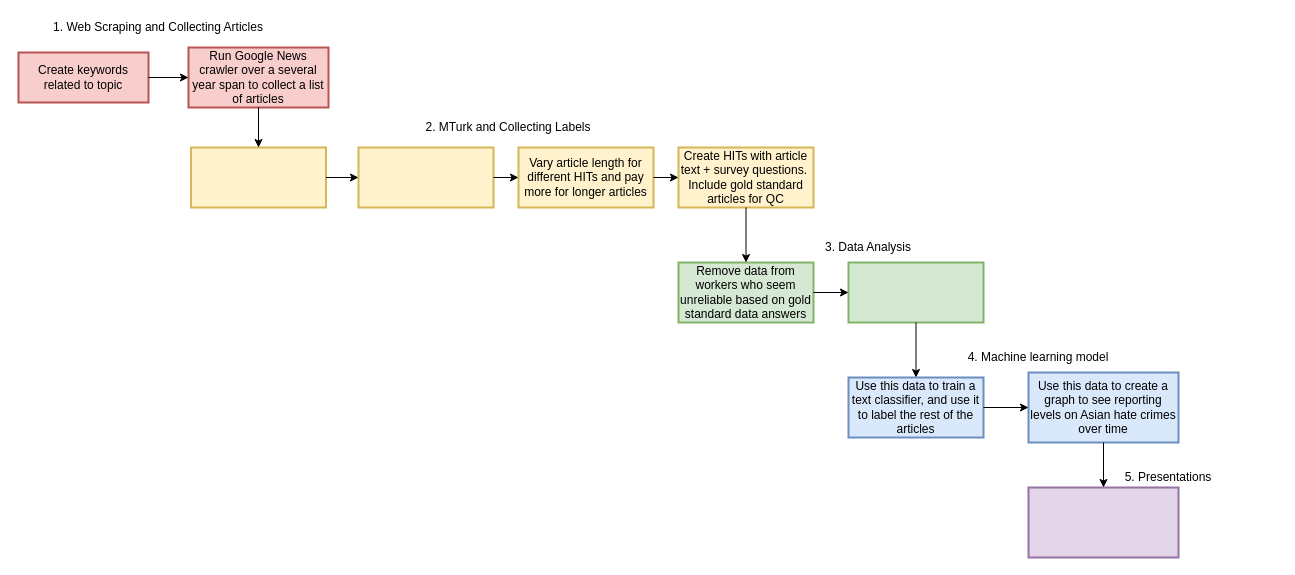
This 1295x575 diagram has some shape labels left out. The shapes that lost their labels are listed below. From the top down, each one's centre as x and y in pixels, then its label:
(258,177): Select ~1000 articles and divide into training and test sets
(425,177): Extract texts from selected articles with newspaper3k
(915,292): Aggregate data by labeling articles as containing Asian hate crimes or not
(1103,522): Make a video discussing our process and findings
